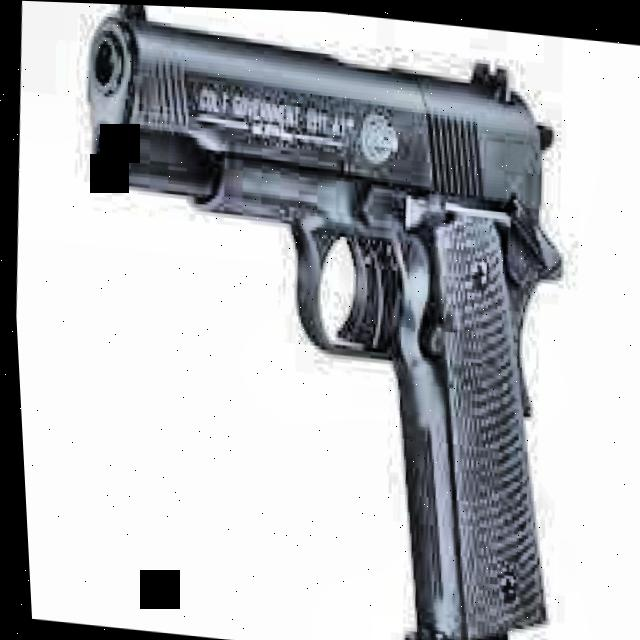Colt m1911: (41, 1, 592, 640)
